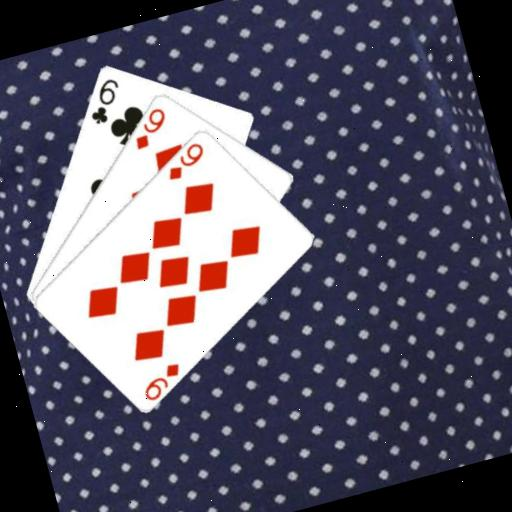6C: (79, 73, 129, 128)
9D: (124, 102, 174, 152), (157, 137, 210, 183), (135, 357, 188, 403)
